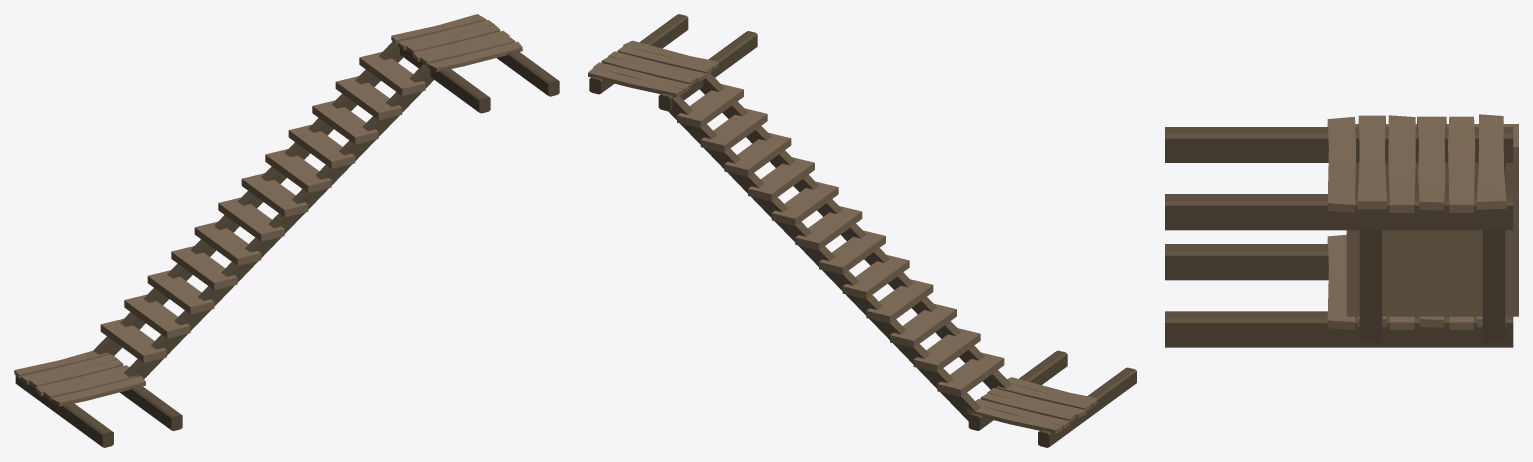
The model's file is castle_wood_stairs_b.FBX.
3 renders of one model, left to right at view 1: azimuth 30°, elevation 25°; view 2: azimuth 150°, elevation 25°; view 3: azimuth 270°, elevation 25°, orthographic. The views are drawn at different scales.
Visible parts, largest first — view 1: castle_wood_stairs_b; view 2: castle_wood_stairs_b; view 3: castle_wood_stairs_b.
Boxes of the visible parts, x1,y1,x2,y2 form: castle_wood_stairs_b: (14, 14, 559, 447); castle_wood_stairs_b: (588, 14, 1136, 447); castle_wood_stairs_b: (1165, 114, 1518, 347).
Size of the model in its own units: 13.61 by 7.21 by 4.45.
